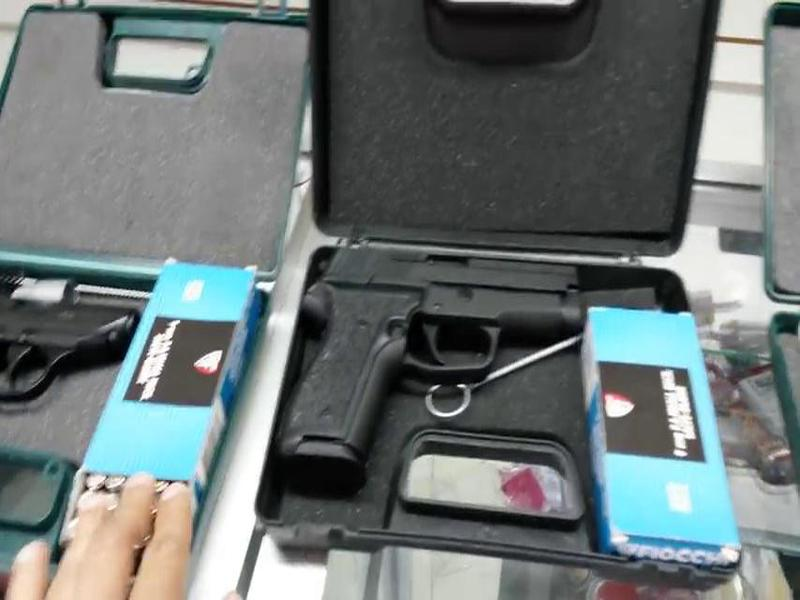Pistola: (252, 227, 650, 499)
